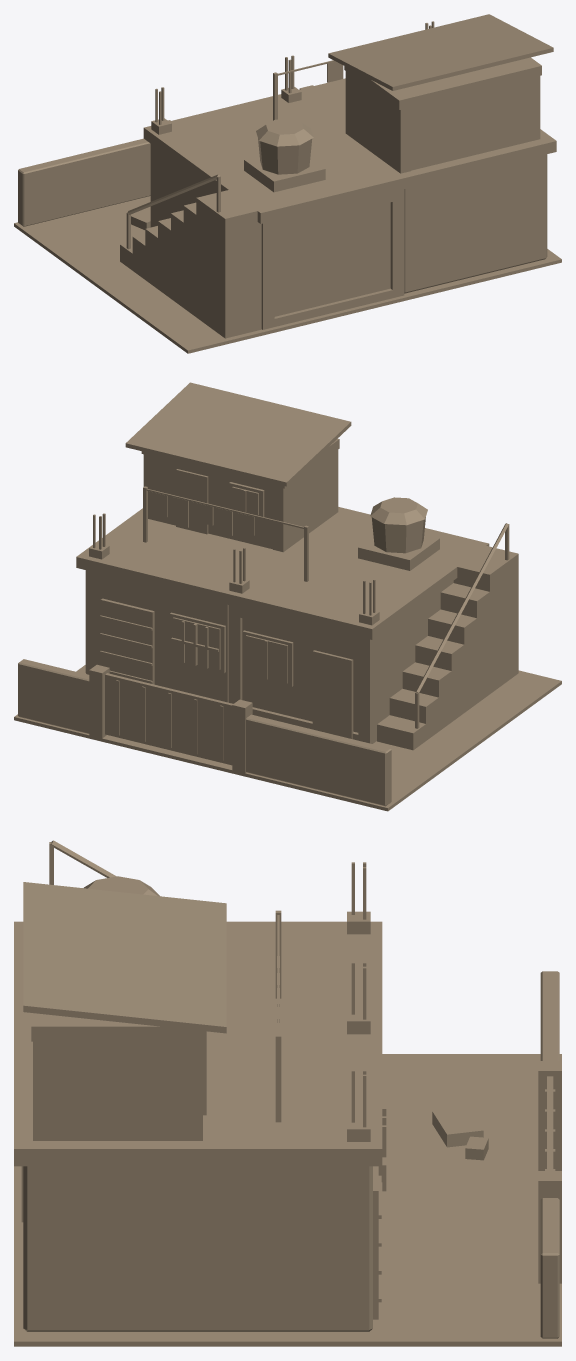
3 views of the same model, one above another, from view 1: azimuth 30°, elevation 25°; view 2: azimuth 150°, elevation 25°; view 3: azimuth 270°, elevation 25° (orthographic). The views are drawn at different scales.
Parts seen in each view (by area): view 1: corpo; view 2: corpo; view 3: corpo.
Part boxes in pixels (x1=…): corpo: x1=14, y1=14, x2=561, y2=353; corpo: x1=14, y1=382, x2=561, y2=811; corpo: x1=14, y1=840, x2=561, y2=1346.
Bounding box in the file's own units: 1.44 × 0.787 × 1.16.
